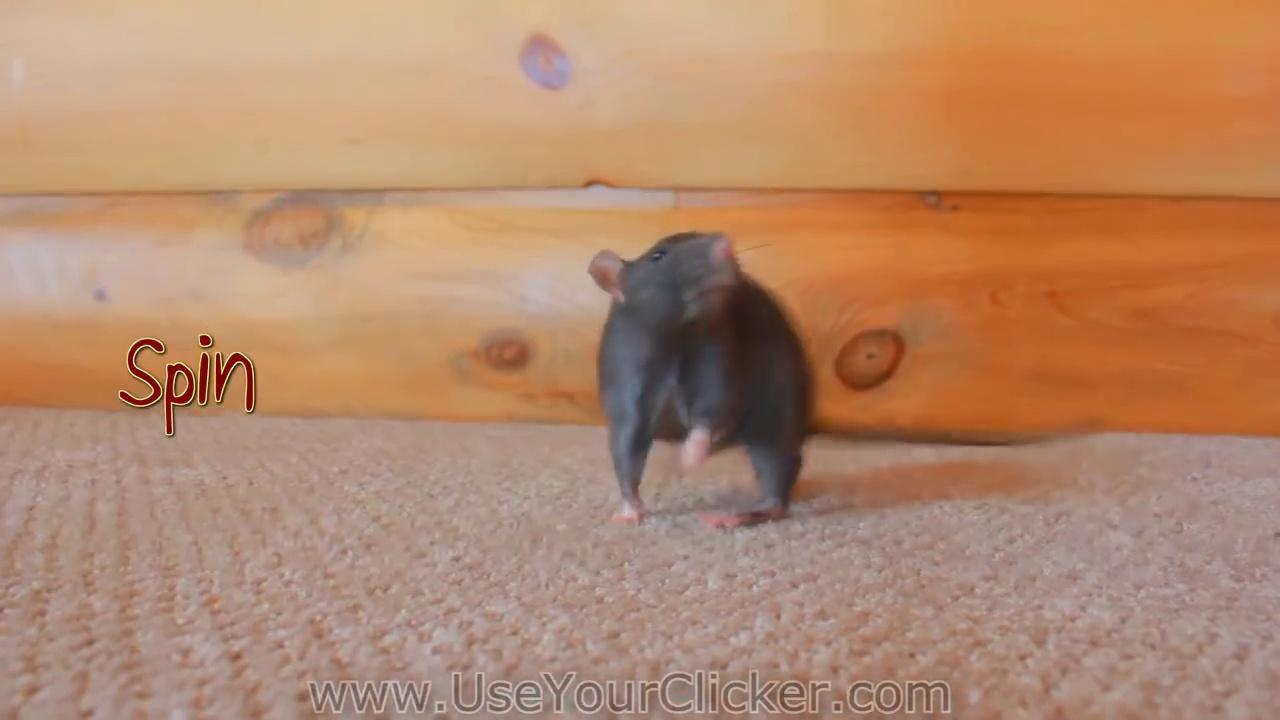rat: (589, 231, 1090, 528)
